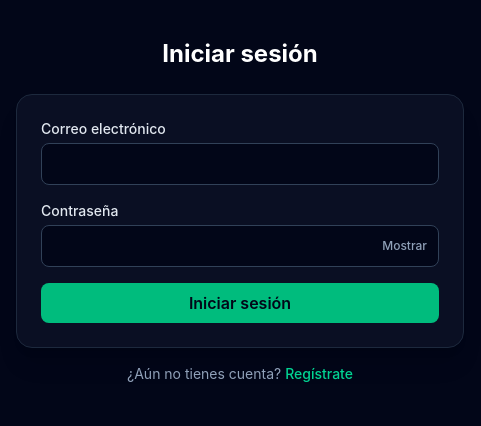
Test: rutas y sesión › muestra un mensaje genérico con contraseña incorrecta
The width and height of the screenshot is (481, 426).
Type "ana@example.com" into the field labelled "Correo electrónico".
click(240, 164); type("ana@example.com")  # box x1=41 y1=143 x2=439 y2=185
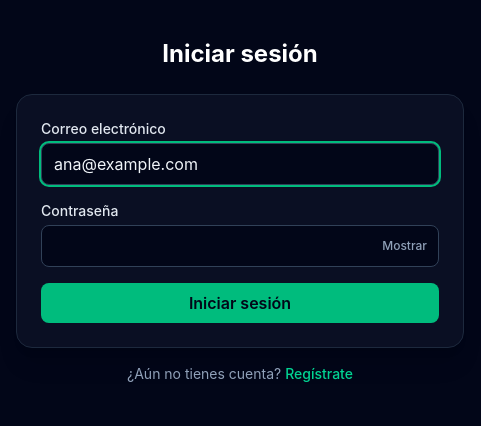
Type "Incorrecta1" into the password field labelled "Contraseña".
click(240, 246); type("Incorrecta1")  # box x1=41 y1=225 x2=439 y2=267
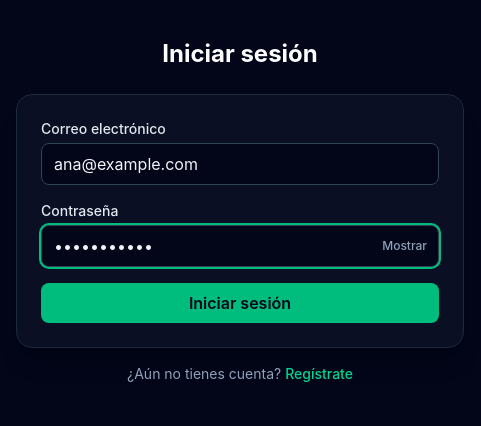
Click the button "Iniciar sesión".
click(240, 303)  # box x1=41 y1=283 x2=439 y2=323
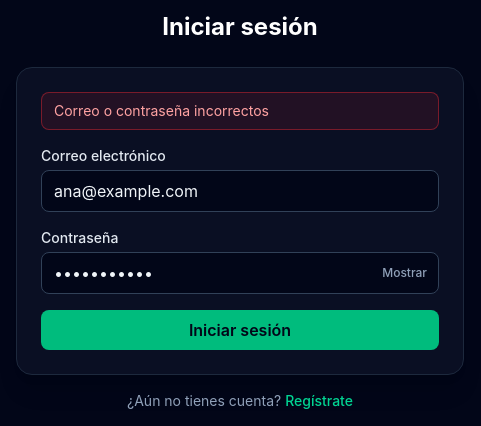
Expected: the message reads "Correo o contraseña incorrectos", x1=54 y1=102 x2=269 y2=119
